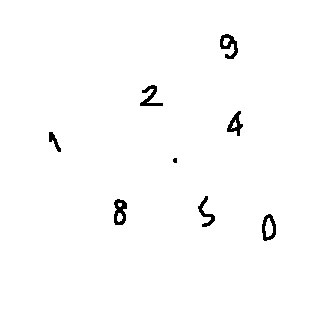.: (171, 149, 184, 173)
0: (254, 208, 288, 259)
1: (43, 124, 69, 159)
2: (133, 79, 172, 123)
4: (225, 102, 254, 152)
5: (188, 195, 231, 229)
8: (107, 195, 134, 232)
9: (210, 30, 250, 72)
